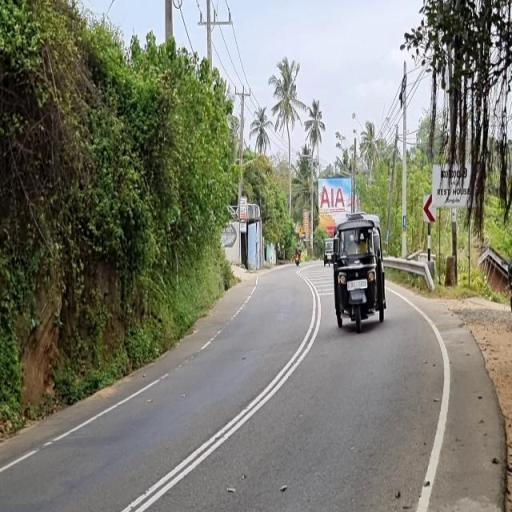double_white_line: (119, 277, 323, 510)
